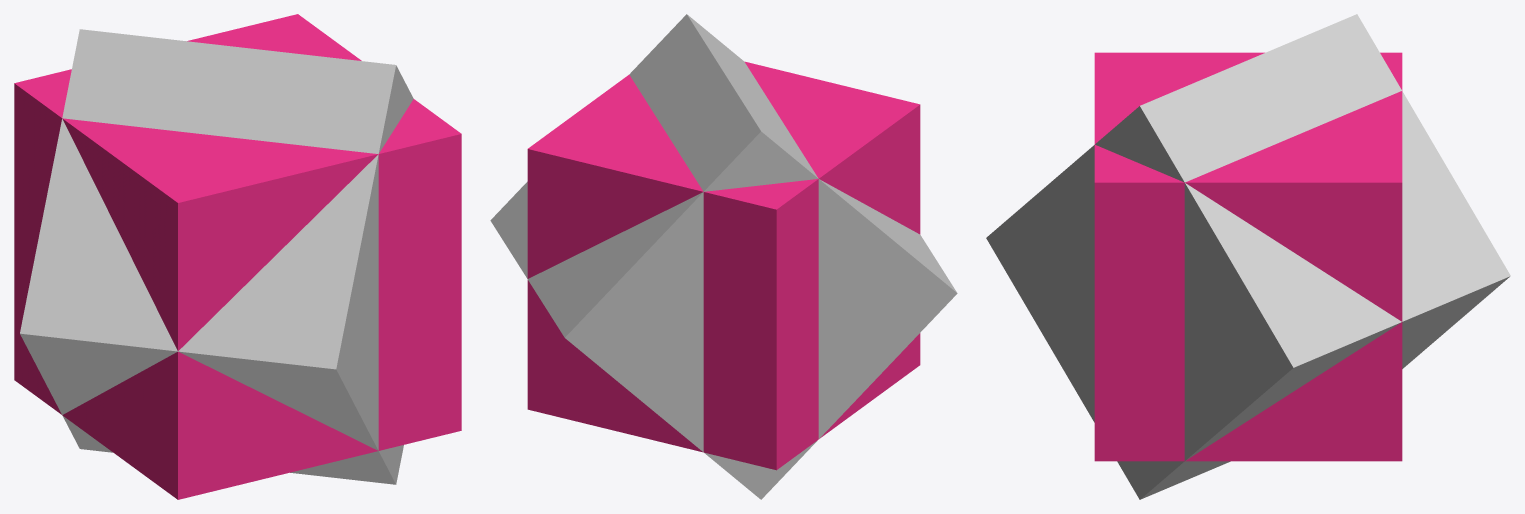
The model's file is TwoCubes.dae.
The picture shows the model from 3 angles, left to right: view 1: azimuth 30°, elevation 25°; view 2: azimuth 150°, elevation 25°; view 3: azimuth 270°, elevation 25°; orthographic projection. The views are drawn at different scales.
Visible parts, largest first — view 1: Cube, Cube-001; view 2: Cube, Cube-001; view 3: Cube-001, Cube.
Boxes of the visible parts, bbox=[...] form: Cube: bbox=[14, 14, 461, 499]; Cube-001: bbox=[20, 29, 413, 484]; Cube: bbox=[527, 61, 920, 470]; Cube-001: bbox=[490, 14, 957, 499]; Cube-001: bbox=[986, 14, 1510, 499]; Cube: bbox=[1094, 52, 1402, 461].
Size of the model in its own units: 3.41 by 2.83 by 3.41.
